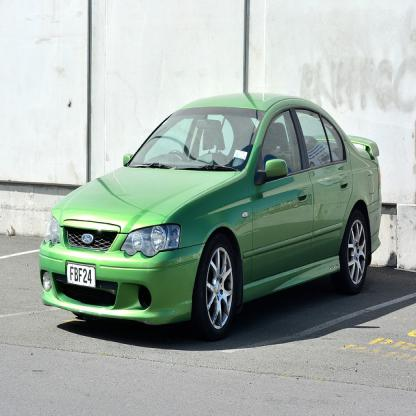Car: (39, 92, 382, 341)
